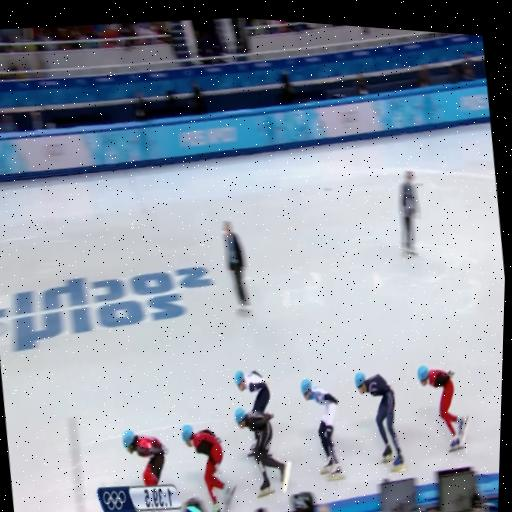Skater: (234, 408, 290, 497), (354, 372, 404, 470), (181, 425, 234, 511), (300, 379, 343, 480), (417, 366, 467, 451), (121, 430, 166, 486), (233, 371, 269, 413)
